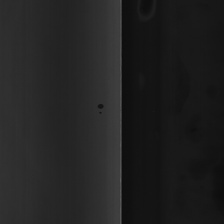oil_spot: (96, 92, 108, 121)
